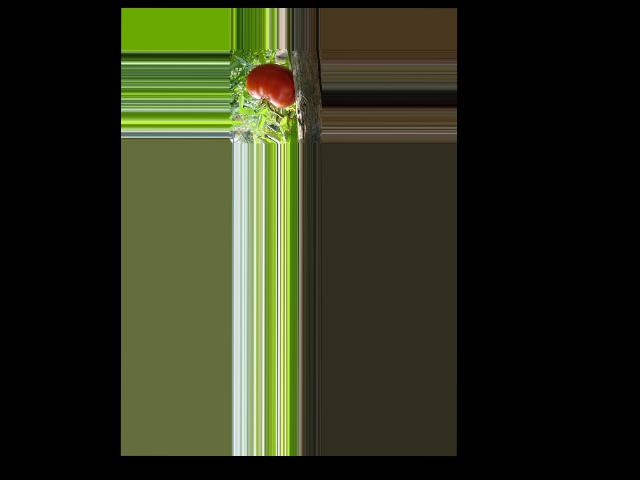tomato: (245, 64, 295, 108)
